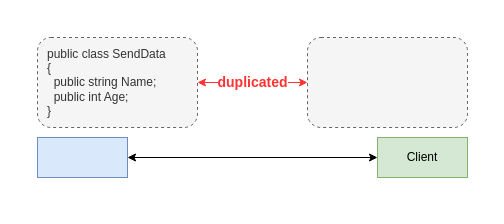
This 504x224 diagram has some shape labels left out. The shapes that lost their labels are listed below. From the top down, each one's box as (x1, y1, x2, y2) in pixels, then its label:
(306, 36, 468, 128): public class RecieveData { public string Name; public int Age; }
(36, 136, 128, 178): Web
